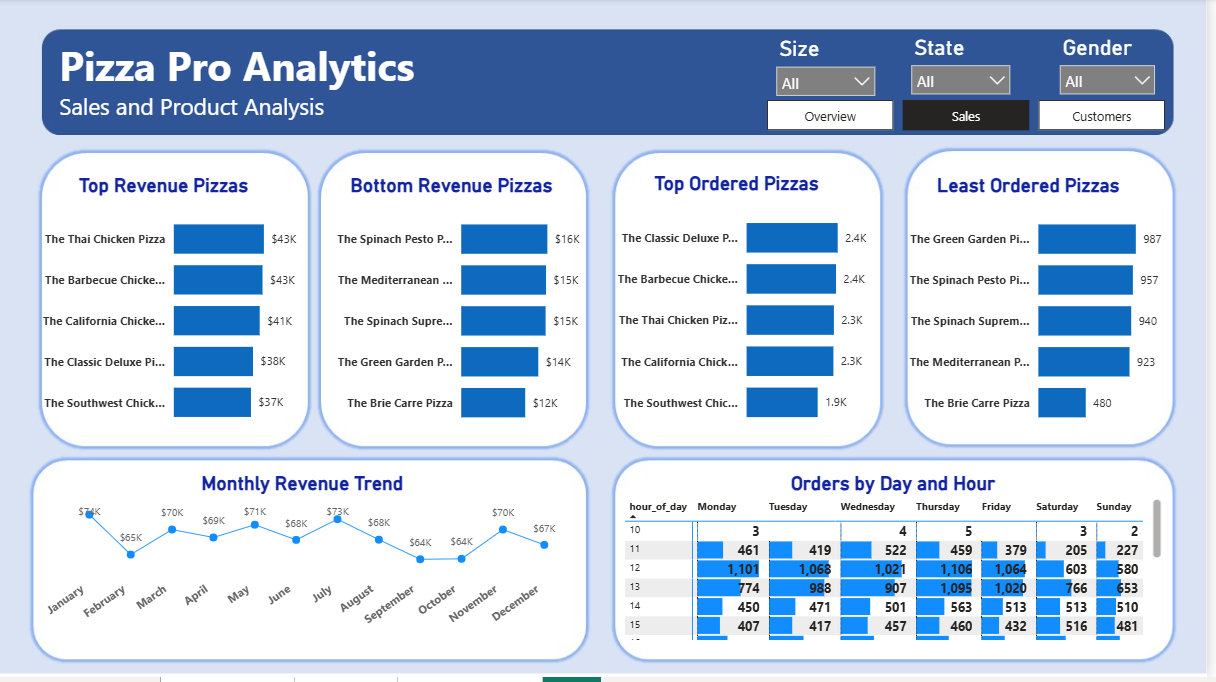

The dashboard page shown, as its layout file describes it:
{"tool":"powerbi","page":{"name":"Sales","canvas":[1280,720],"ordinal":1},"visuals":[{"type":"barChart","title":"Top Revenue Pizzas","fields":{"Category":["pizza_types.name"],"Y":["Measures Table.Total Revenue"]},"box":[26.8,185.8,294.9,281.5],"z":0},{"type":"barChart","title":"Bottom Revenue Pizzas","fields":{"Category":["pizza_types.name"],"Y":["Measures Table.Total Revenue"]},"box":[338.8,185.5,282,282],"z":1000},{"type":"barChart","title":"Top Ordered Pizzas","fields":{"Category":["pizza_types.name"],"Y":["Measures Table.Total Orders"]},"box":[639.7,183.9,285.4,283.5],"z":2000},{"type":"barChart","title":"Least Ordered Pizzas","fields":{"Category":["pizza_types.name"],"Y":["Measures Table.Total Orders"]},"box":[944.4,185.5,293.3,282],"z":3000},{"type":"lineChart","title":"Monthly Revenue Trend","fields":{"Category":["Date Table.Month"],"Y":["Measures Table.Total Revenue"]},"box":[43.5,502.7,557.5,181.4],"z":4000},{"type":"pivotTable","title":"Orders by Day and Hour","fields":{"Values":["Measures Table.Total Orders"],"Rows":["order_details.hour_of_day"],"Columns":["Date Table.Weekday"]},"box":[658.5,502.6,579,182.9],"z":5000},{"type":"slicer","fields":{"Values":["pizzas.size"]},"box":[814,34.5,124.5,70.9],"z":6000},{"type":"pageNavigator","box":[813.8,107.9,422,32.2],"z":7000},{"type":"slicer","fields":{"Values":["customers.state"]},"box":[958.1,34,124.7,107.7],"z":8000},{"type":"slicer","fields":{"Values":["customers.gender"]},"box":[1115,34,120.9,90.7],"z":9000},{"type":"textbox","box":[58.7,36,490.2,104.1],"z":10000},{"type":"actionButton","box":[815.9,109.2,128.3,32.6],"z":11000},{"type":"actionButton","box":[1107,107.3,128.3,32.6],"z":12000}]}

Visuals, with their boxes in screenshot pixels (x1, y1, x2, y2), scaled from the page's 1280x720 canvas onto the 1216x682 screenshot:
"Top Revenue Pizzas" barChart: 25, 176, 306, 443
"Bottom Revenue Pizzas" barChart: 322, 176, 590, 443
"Top Ordered Pizzas" barChart: 608, 174, 879, 443
"Least Ordered Pizzas" barChart: 897, 176, 1176, 443
"Monthly Revenue Trend" lineChart: 41, 476, 571, 648
"Orders by Day and Hour" pivotTable: 626, 476, 1176, 649
slicer - pizzas.size: 773, 33, 892, 100
pageNavigator: 773, 102, 1174, 133
slicer - customers.state: 910, 32, 1029, 134
slicer - customers.gender: 1059, 32, 1174, 118
textbox: 56, 34, 521, 133
actionButton: 775, 103, 897, 134
actionButton: 1052, 102, 1174, 133
